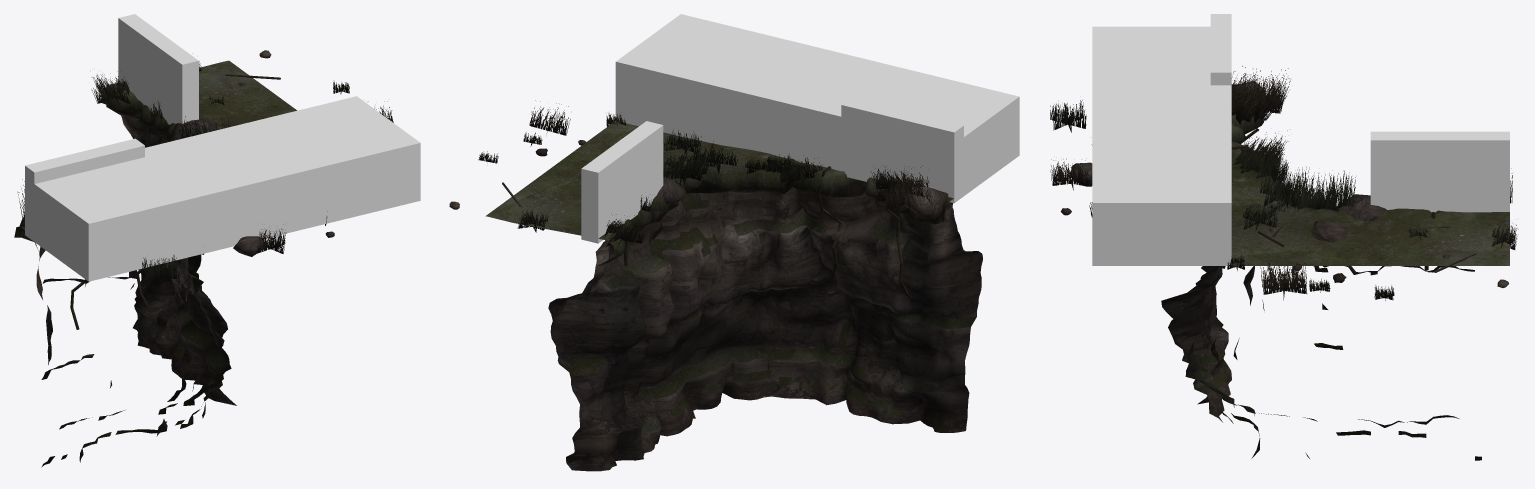
File: cliff_edge_corner_inner.glb
3 views of the same model, side by side, from view 1: azimuth 30°, elevation 25°; view 2: azimuth 150°, elevation 25°; view 3: azimuth 270°, elevation 25° (orthographic). The views are drawn at different scales.
Parts seen in each view (by area): view 1: col_walk_cliff_edge_corner_inner, cliff_edge_corner_inner, col_block_rim_cliff_edge_corner_inner_1, col_block_rim_cliff_edge_corner_inner_0; view 2: cliff_edge_corner_inner, col_walk_cliff_edge_corner_inner, col_block_rim_cliff_edge_corner_inner_0, col_block_rim_cliff_edge_corner_inner_1; view 3: cliff_edge_corner_inner, col_walk_cliff_edge_corner_inner, col_block_rim_cliff_edge_corner_inner_1, col_block_rim_cliff_edge_corner_inner_0.
Boxes of the visible parts, box(x1,y1,x2,y2) form: col_walk_cliff_edge_corner_inner: box(25, 96, 420, 281); cliff_edge_corner_inner: box(14, 50, 393, 467); col_block_rim_cliff_edge_corner_inner_1: box(118, 14, 198, 124); col_block_rim_cliff_edge_corner_inner_0: box(25, 138, 144, 241); cliff_edge_corner_inner: box(449, 100, 982, 471); col_walk_cliff_edge_corner_inner: box(615, 14, 1019, 202); col_block_rim_cliff_edge_corner_inner_0: box(841, 98, 963, 203); col_block_rim_cliff_edge_corner_inner_1: box(581, 121, 663, 243); cliff_edge_corner_inner: box(1050, 66, 1518, 460); col_walk_cliff_edge_corner_inner: box(1092, 26, 1231, 265); col_block_rim_cliff_edge_corner_inner_1: box(1370, 131, 1509, 212); col_block_rim_cliff_edge_corner_inner_0: box(1210, 14, 1231, 85).
Bounding box in the file's own units: 7.17 × 5.2 × 6.79.
5 materials, 5 textured.
